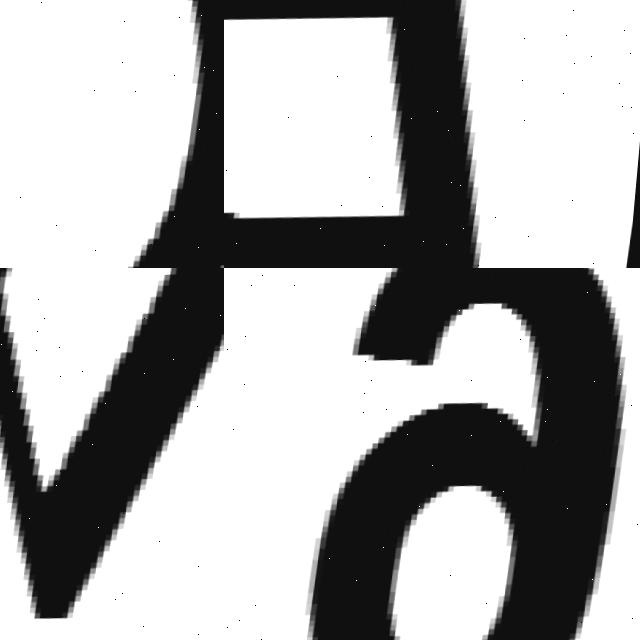6: (289, 268, 640, 640)
N: (0, 268, 224, 640)
O: (0, 0, 224, 268)
P: (224, 0, 485, 268)
